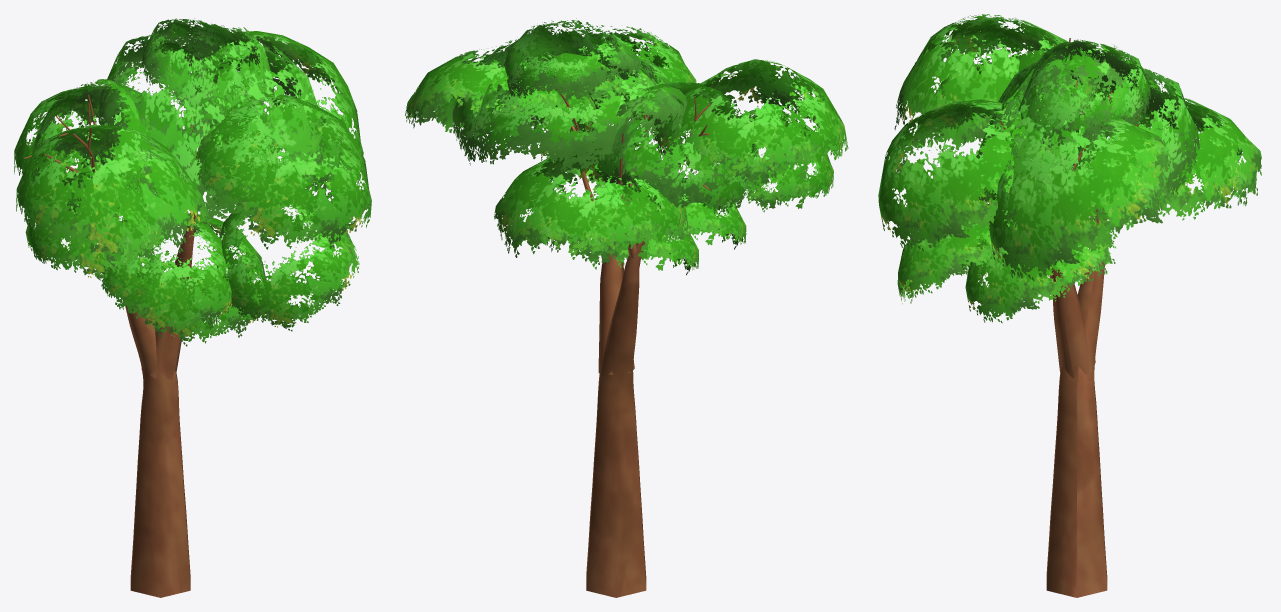
File: Planta4.fbx
3 views of the same model, side by side, from view 1: azimuth 30°, elevation 25°; view 2: azimuth 150°, elevation 25°; view 3: azimuth 270°, elevation 25° (orthographic).
Parts seen in each view (by area): view 1: tree; view 2: tree; view 3: tree.
Boxes of the visible parts, bbox=[...] form: tree: bbox=[14, 18, 371, 597]; tree: bbox=[405, 18, 848, 597]; tree: bbox=[878, 14, 1261, 597].
Bounding box in the file's own units: 1003 × 1389 × 874.
